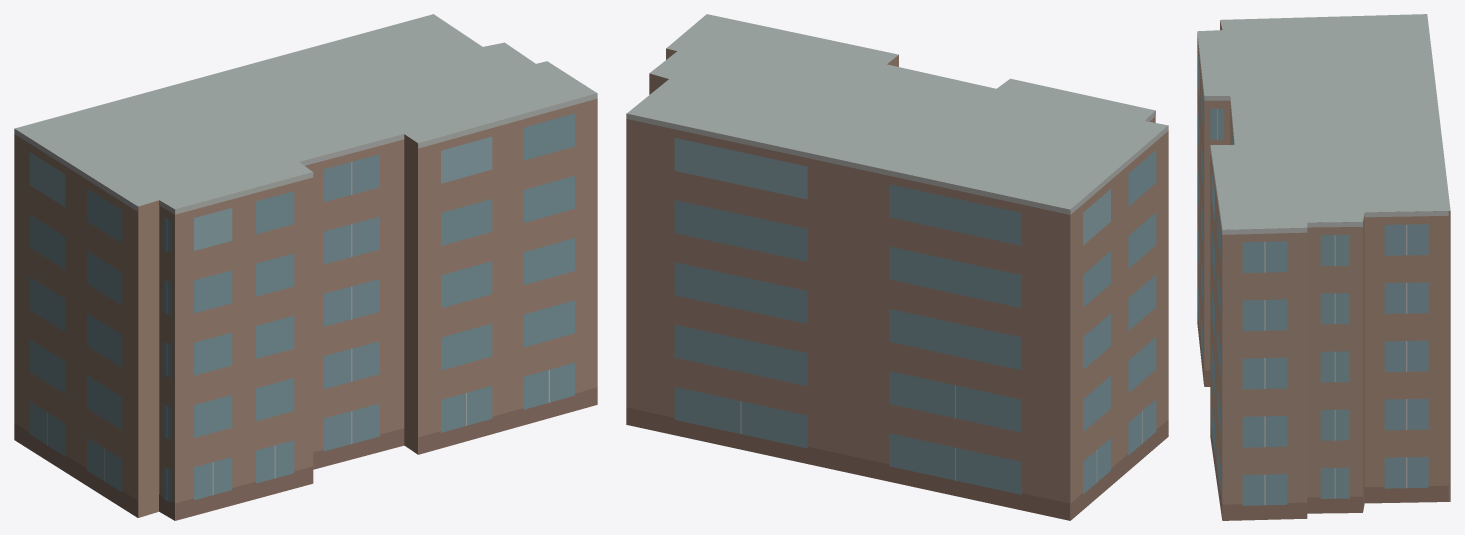
The model's file is survey-upis-32919542.glb.
3 views of the same model, side by side, from view 1: azimuth 30°, elevation 25°; view 2: azimuth 150°, elevation 25°; view 3: azimuth 270°, elevation 25° (orthographic). The views are drawn at different scales.
Parts seen in each view (by area): view 1: survey-upis-32919542.tmp; view 2: survey-upis-32919542.tmp; view 3: survey-upis-32919542.tmp.
Part boxes in pixels (x1,y1,x2,y2): survey-upis-32919542.tmp: (14,14,597,520); survey-upis-32919542.tmp: (626,14,1168,520); survey-upis-32919542.tmp: (1197,14,1450,520).
Bounding box in the file's own units: 22.76 × 14.3 × 11.29.
